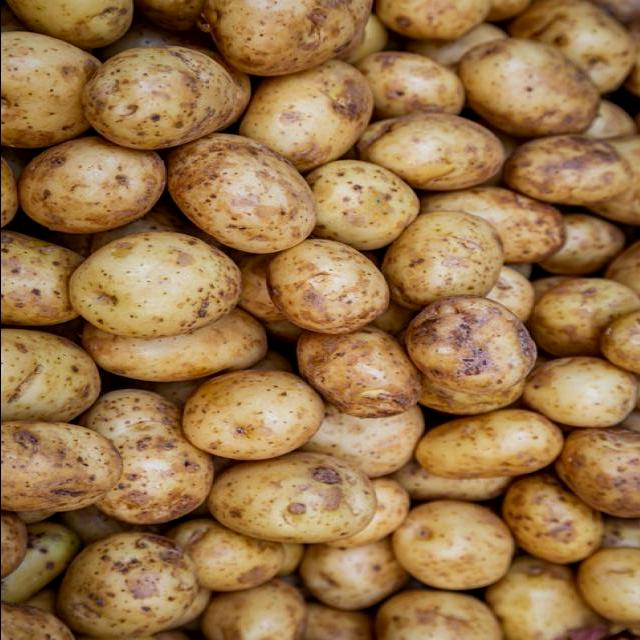potato: (76, 389, 206, 530), (74, 236, 241, 341), (162, 135, 308, 247), (80, 50, 235, 151), (59, 533, 201, 640), (240, 58, 372, 170), (210, 455, 373, 543), (177, 367, 332, 459), (19, 139, 166, 227), (211, 1, 379, 77), (466, 36, 593, 135), (376, 214, 503, 312), (400, 298, 527, 394), (2, 420, 122, 513), (1, 32, 97, 148), (389, 507, 512, 594), (410, 411, 564, 480), (275, 235, 387, 328), (494, 478, 608, 567), (359, 117, 498, 189), (520, 352, 636, 429), (314, 161, 414, 247), (561, 431, 640, 519)
